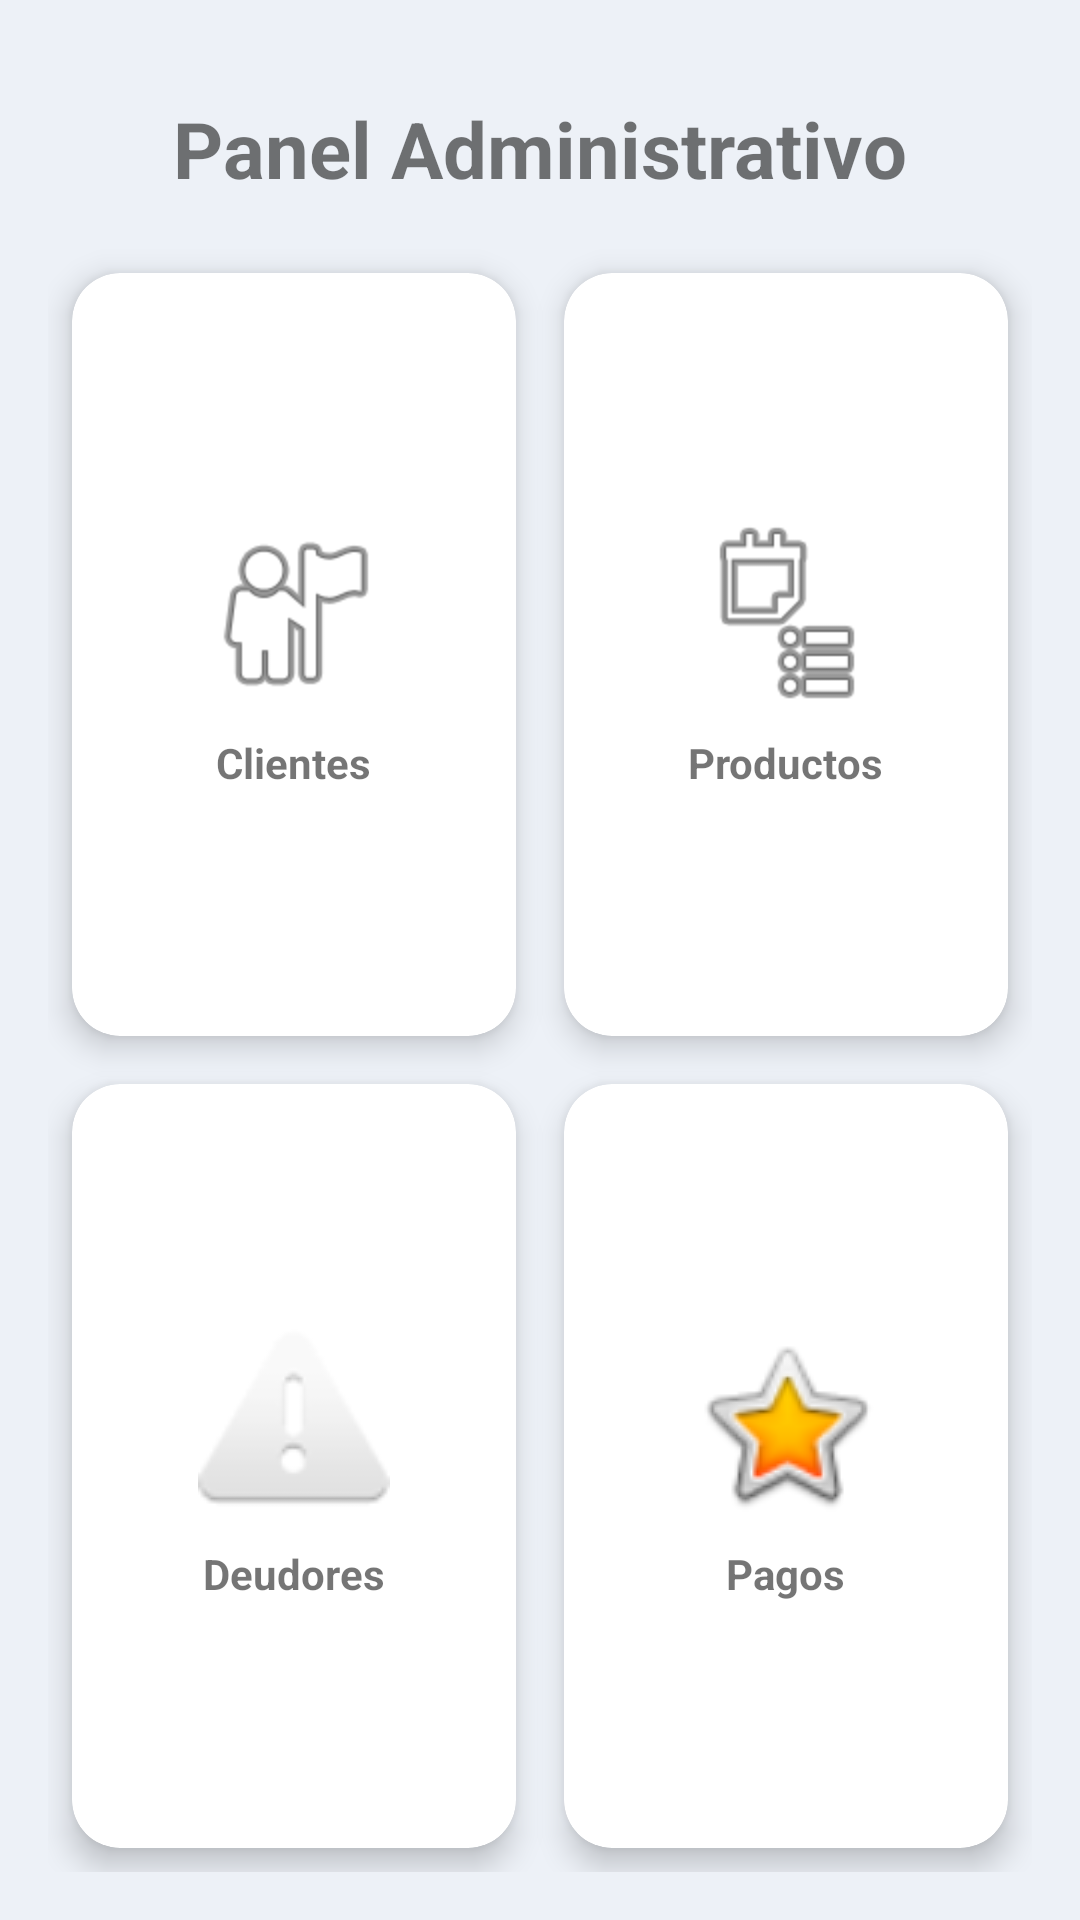

Where icons sit on this 1080x1920 app screen, as BBox(x1, y1, x2, y2):
agenda: BBox(719, 527, 855, 698)
alert: BBox(198, 1374, 390, 1503)
myplaces: BBox(224, 542, 368, 686)
star on: BBox(707, 1348, 868, 1505)
